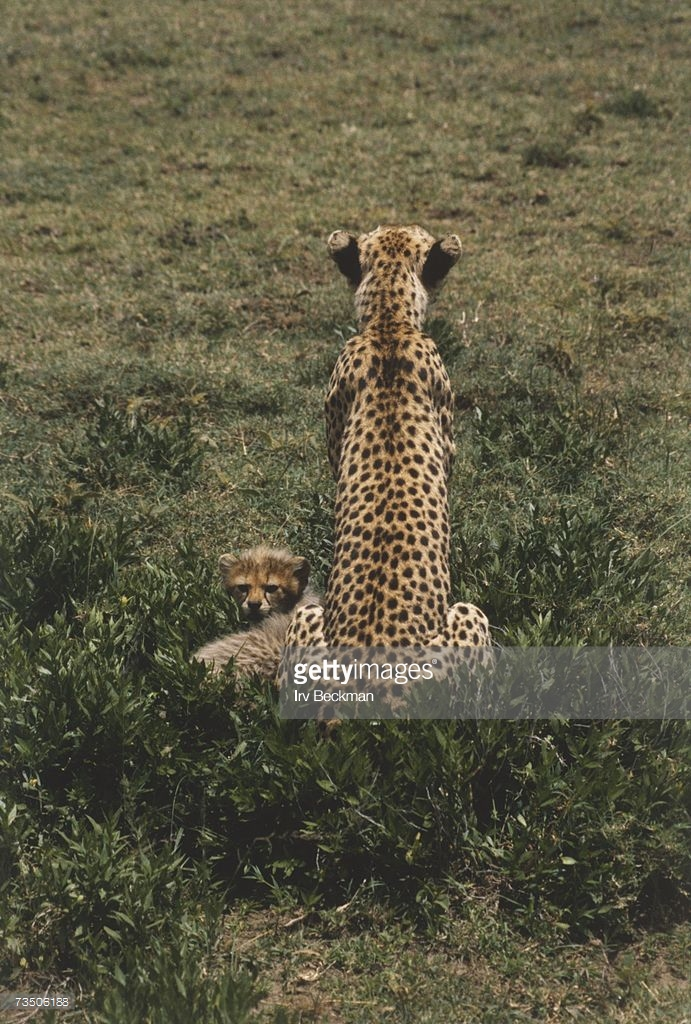Cheetah: (284, 220, 505, 697), (185, 541, 318, 704)
